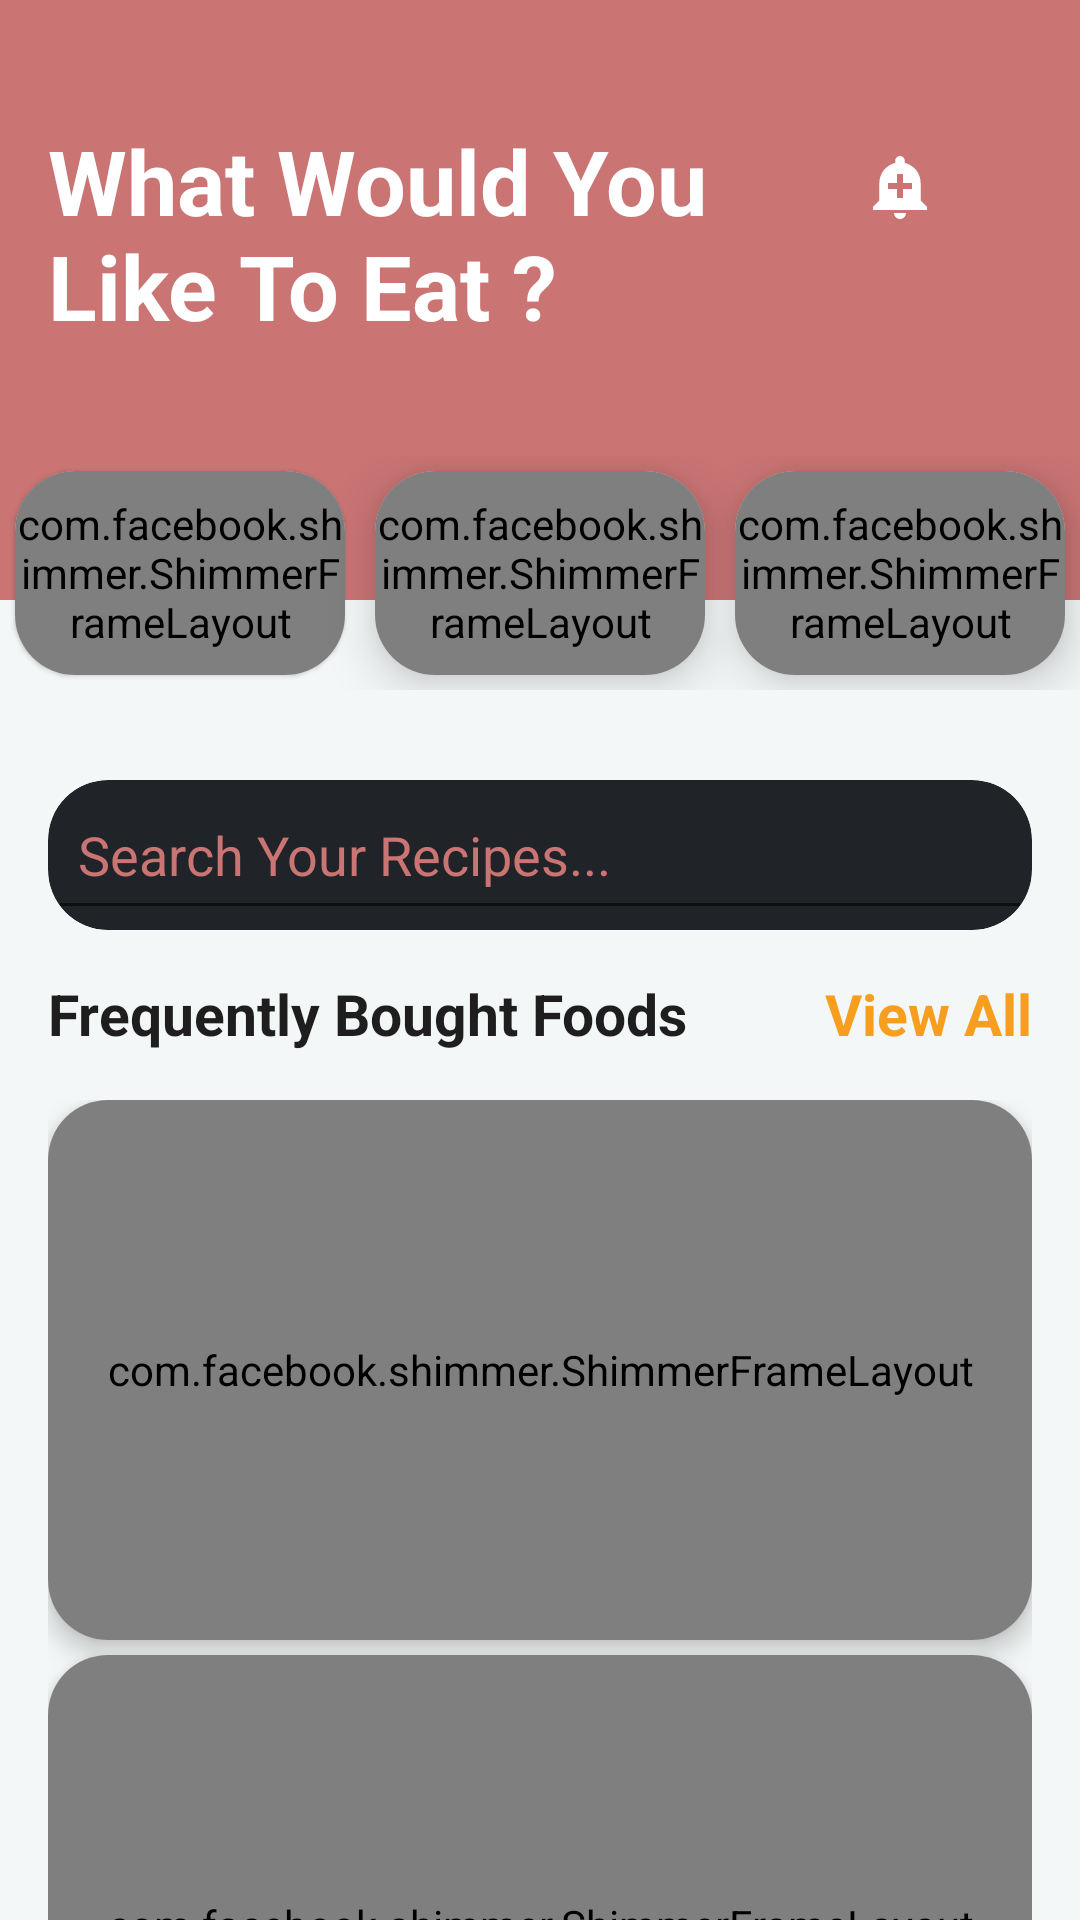

Icons on this 1080 × 1920 Android screen, each with its box as (x1, y1, x2, y2):
notification: (873, 156, 927, 219)
